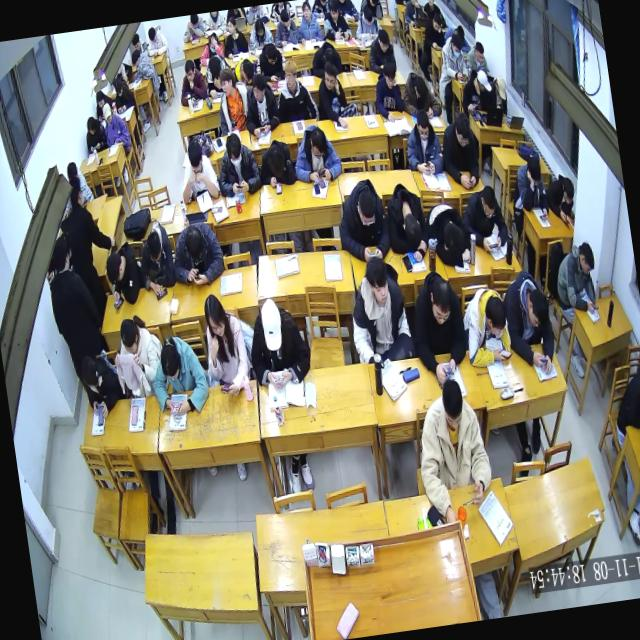bow: (500, 265, 560, 379), (145, 330, 214, 422), (458, 282, 516, 372), (381, 179, 433, 267), (167, 215, 228, 290), (74, 348, 125, 423), (422, 198, 473, 272), (102, 238, 147, 310), (398, 68, 444, 124), (256, 136, 299, 192), (544, 172, 580, 229), (308, 38, 345, 82), (201, 52, 233, 100), (197, 31, 226, 68), (179, 14, 206, 44)
down: (256, 294, 286, 356), (426, 274, 456, 328), (439, 377, 467, 431), (201, 290, 229, 340), (524, 286, 552, 332), (158, 339, 185, 384), (483, 292, 509, 338), (182, 222, 207, 266), (117, 314, 141, 358), (354, 188, 379, 229), (103, 248, 127, 286), (223, 131, 246, 170), (266, 142, 289, 180), (452, 112, 473, 150), (186, 138, 206, 177), (144, 230, 164, 268), (480, 184, 500, 222), (308, 126, 329, 162), (577, 240, 597, 277), (413, 108, 432, 144), (320, 59, 340, 93), (525, 156, 544, 190), (560, 176, 577, 208), (381, 62, 399, 92), (412, 74, 430, 104), (207, 53, 224, 82), (449, 32, 465, 60), (322, 44, 339, 70), (376, 27, 392, 54), (264, 42, 280, 68), (494, 74, 508, 102), (473, 39, 487, 65), (101, 100, 114, 126), (362, 7, 376, 30), (327, 0, 340, 22), (431, 12, 444, 34), (253, 17, 266, 38), (112, 78, 125, 98), (208, 33, 220, 54), (130, 49, 142, 70), (86, 116, 98, 137), (94, 90, 106, 110), (147, 24, 158, 44), (190, 15, 201, 30)
lookup: (363, 256, 393, 308), (250, 72, 270, 105), (282, 59, 300, 89), (182, 58, 198, 84), (300, 0, 313, 22), (425, 0, 436, 8), (409, 0, 420, 6)
sit: (408, 373, 498, 529), (41, 230, 109, 368), (402, 266, 473, 388), (342, 250, 416, 366), (58, 172, 120, 298), (242, 292, 317, 395), (198, 288, 254, 401), (332, 175, 395, 268), (108, 312, 164, 403), (550, 239, 602, 318), (289, 120, 345, 192), (133, 216, 180, 300), (437, 110, 486, 190), (459, 184, 512, 256), (212, 129, 264, 201), (270, 56, 320, 128), (174, 134, 222, 208), (400, 106, 446, 178), (238, 70, 284, 142), (509, 153, 552, 226), (212, 65, 254, 138), (313, 58, 352, 134), (370, 60, 407, 125), (609, 368, 640, 433), (457, 66, 495, 116), (364, 27, 400, 78), (438, 31, 470, 86), (252, 40, 290, 86), (176, 58, 210, 109), (100, 100, 132, 150), (293, 0, 325, 46), (320, 0, 353, 44), (220, 14, 250, 61), (270, 7, 300, 50), (352, 6, 382, 42), (487, 74, 511, 119), (82, 115, 108, 156), (111, 74, 137, 115), (246, 16, 275, 52), (422, 12, 448, 52), (463, 40, 490, 78), (130, 46, 156, 83), (144, 22, 170, 58), (92, 87, 116, 122), (401, 0, 426, 28), (420, 0, 443, 23)
